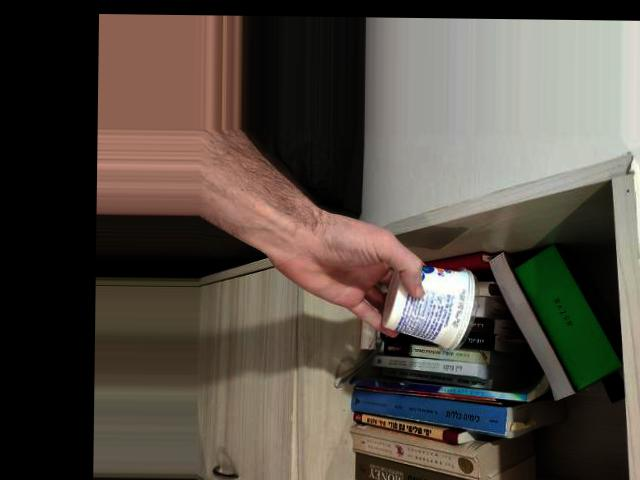cotage: (361, 254, 483, 354)
